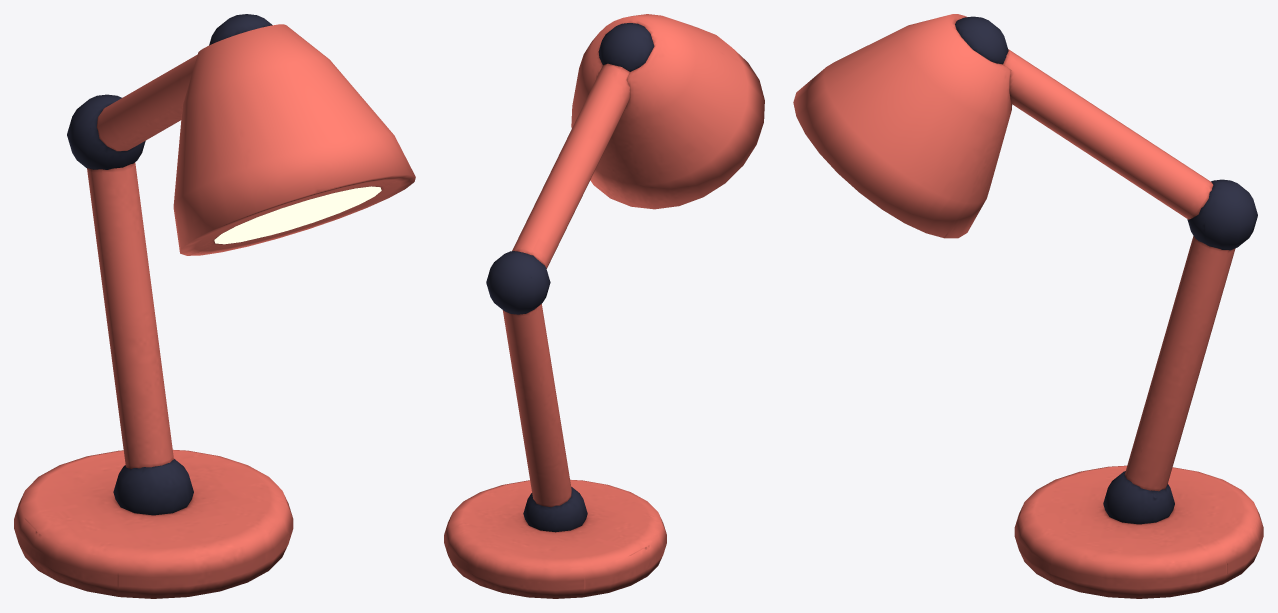
The model's file is desk_lamp.glb.
The picture shows the model from 3 angles, left to right: view 1: azimuth 30°, elevation 25°; view 2: azimuth 150°, elevation 25°; view 3: azimuth 270°, elevation 25°; orthographic projection. The views are drawn at different scales.
Parts seen in each view (by area): view 1: desk_lamp; view 2: desk_lamp; view 3: desk_lamp.
Boxes of the visible parts, x1=… form: desk_lamp: x1=14, y1=14, x2=415, y2=598; desk_lamp: x1=444, y1=14, x2=764, y2=598; desk_lamp: x1=793, y1=14, x2=1263, y2=598.
Bounding box in the file's own units: 0.18 × 0.426 × 0.34.
3 materials, 2 textured.
